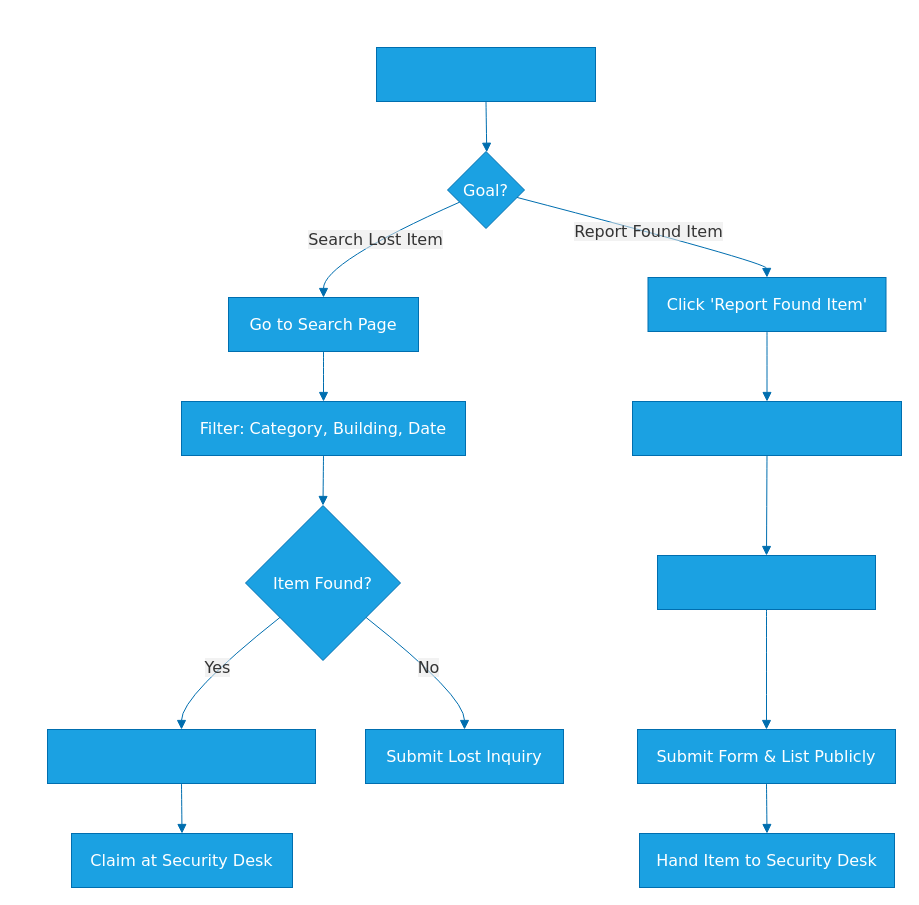
Image size: 919x905. Some labels were removed from this diagram. Here are the shapes that lost their labels. From the top down, the centre of each, then its label:
At [486,74]: "Start: Visit Web Portal".
At [767,428]: "Upload Photo & Enter Details".
At [766,582]: "Select Found Location".
At [181,756]: "View Item Details & Location".
